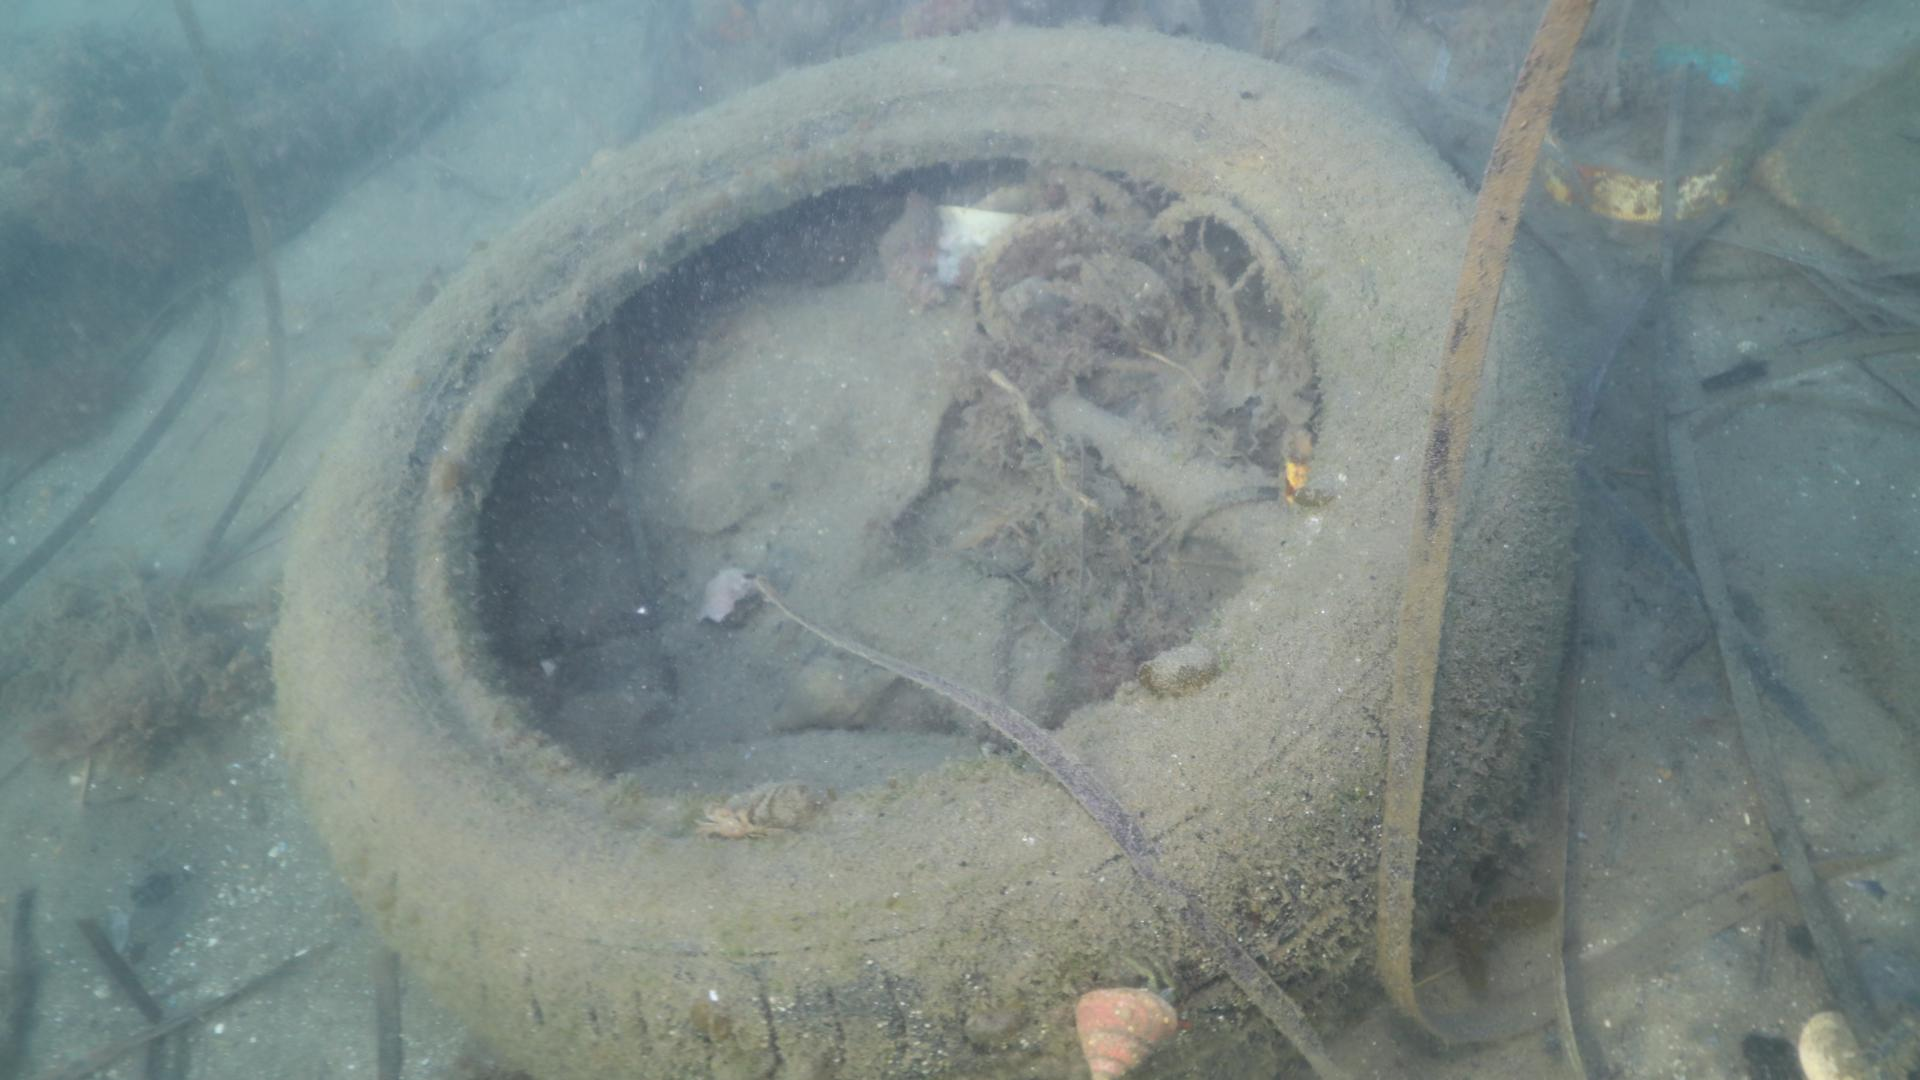tire: (265, 20, 1582, 1080)
